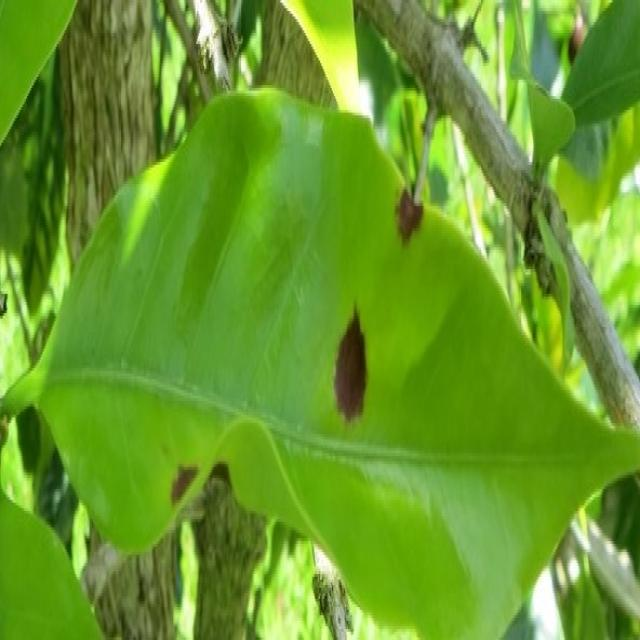Enfermedad-Mancha-de-hierro: (8, 85, 640, 640)
